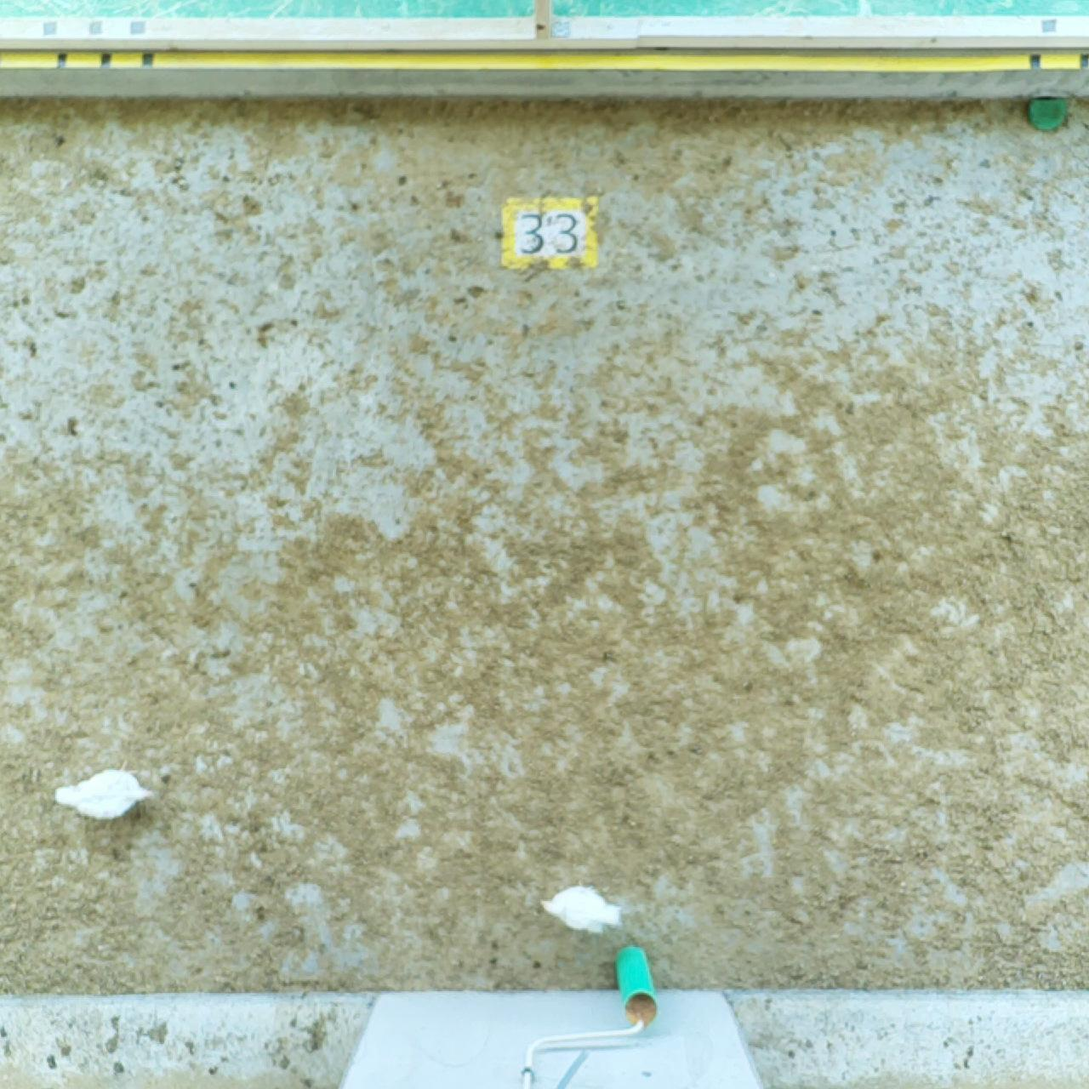chicken: (54, 767, 160, 824), (534, 886, 625, 943)
